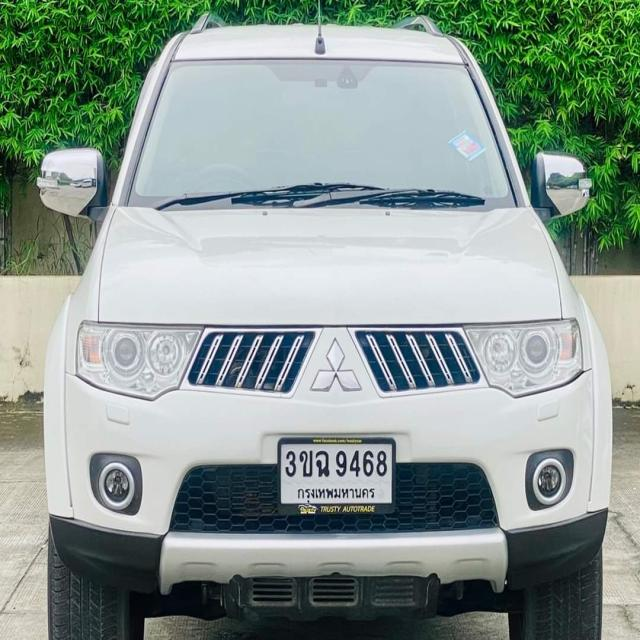license_plate: (276, 435, 397, 517)
